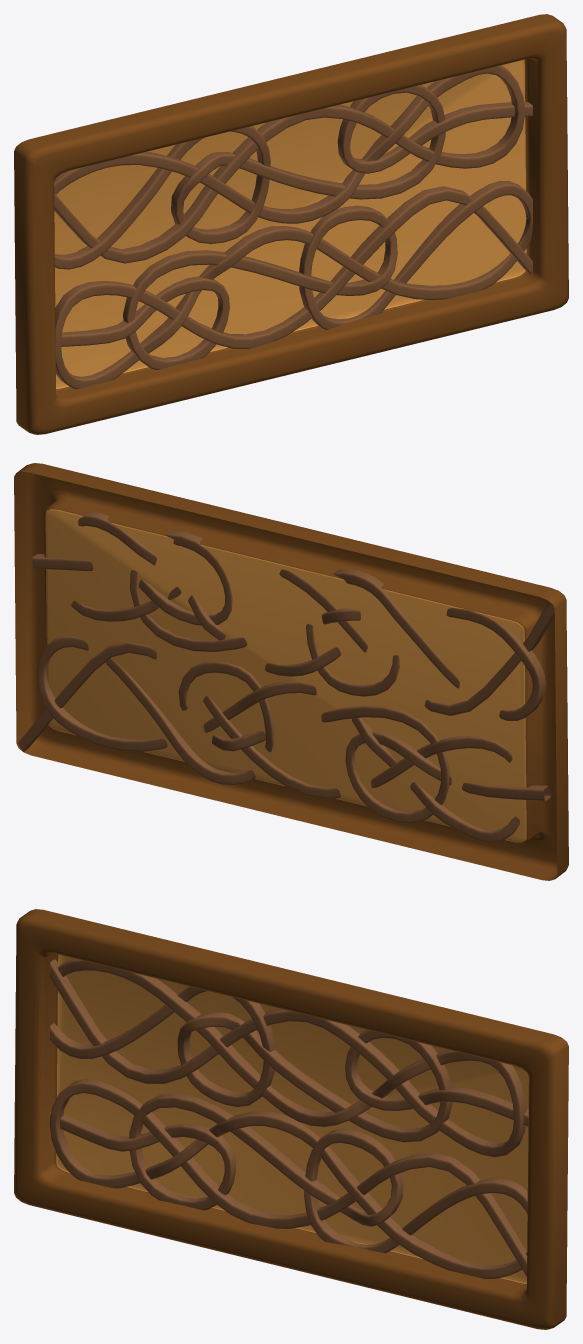
The model's file is PlaceHolder_WallRun.fbx.
3 renders of one model, top to bottom at view 1: azimuth 30°, elevation 25°; view 2: azimuth 150°, elevation 25°; view 3: azimuth 330°, elevation 25°, orthographic.
Visible parts, largest first — view 1: NurbsPath.006; view 2: NurbsPath.006; view 3: NurbsPath.006.
Boxes of the visible parts, x1,y1,x2,y2 form: NurbsPath.006: [14, 14, 568, 434]; NurbsPath.006: [14, 463, 568, 880]; NurbsPath.006: [14, 909, 568, 1329].
Bounding box in the file's own units: 1190 × 75.84 × 600.
